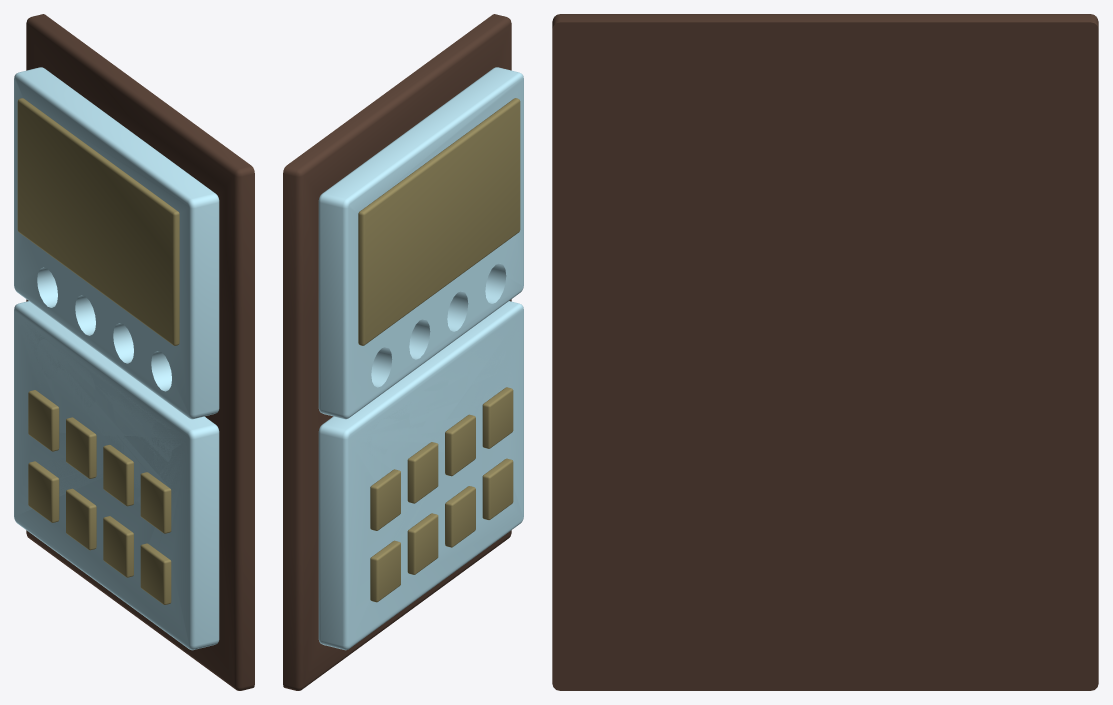
File: Calender.fbx
The picture shows the model from 3 angles, left to right: view 1: azimuth 30°, elevation 25°; view 2: azimuth 150°, elevation 25°; view 3: azimuth 270°, elevation 25°; orthographic projection. The views are drawn at different scales.
Parts seen in each view (by area): view 1: Cube.172.frozen; view 2: Cube.172.frozen; view 3: Cube.172.frozen.
Part boxes in pixels (x1,y1,x2,y2): Cube.172.frozen: (14,14,254,690); Cube.172.frozen: (283,14,523,690); Cube.172.frozen: (552,14,1098,690).
Bounding box in the file's own units: 9.18 × 84.2 × 62.35.
